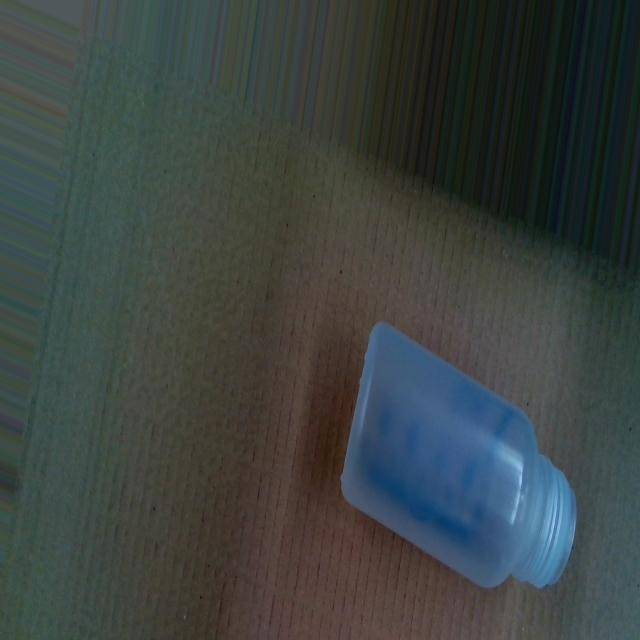bottle: (340, 320, 578, 598)
